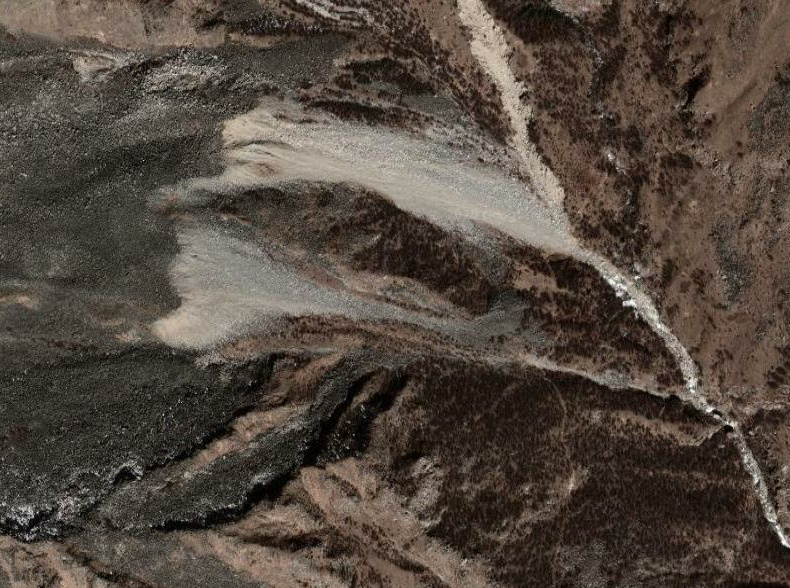slope: (149, 202, 553, 361), (191, 94, 573, 258), (458, 0, 564, 198)
